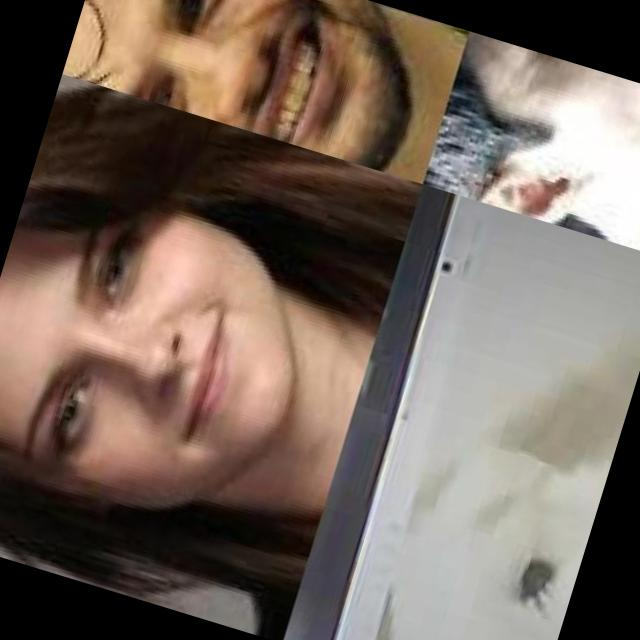bareface: (0, 165, 312, 552)
